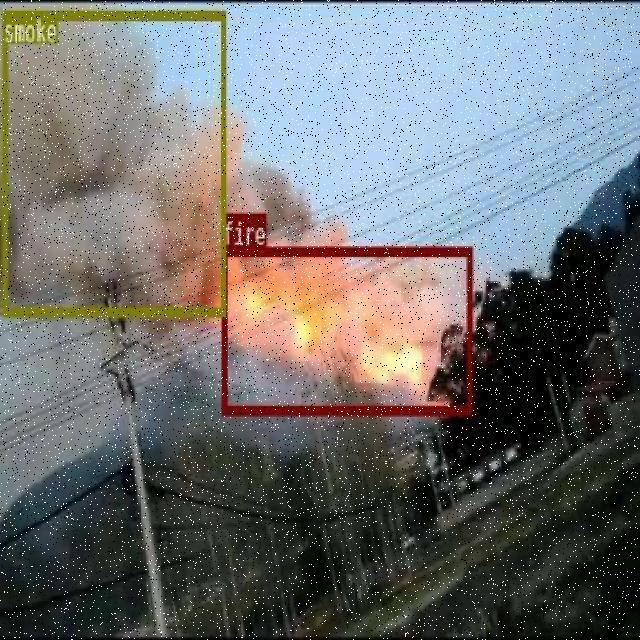Smoke: (2, 0, 225, 251)
